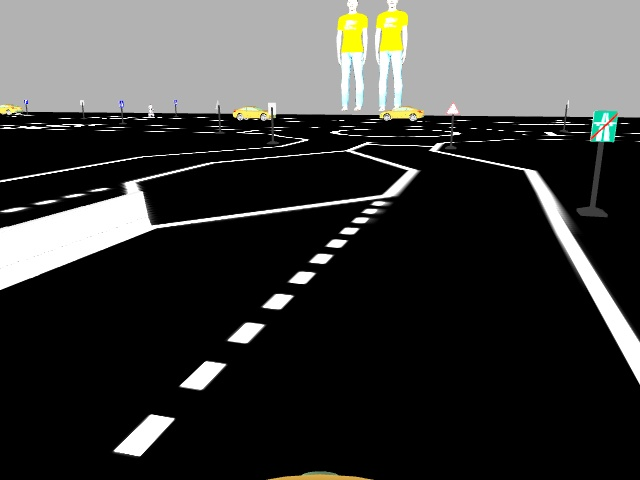HighwayExit: (588, 108, 618, 142)
